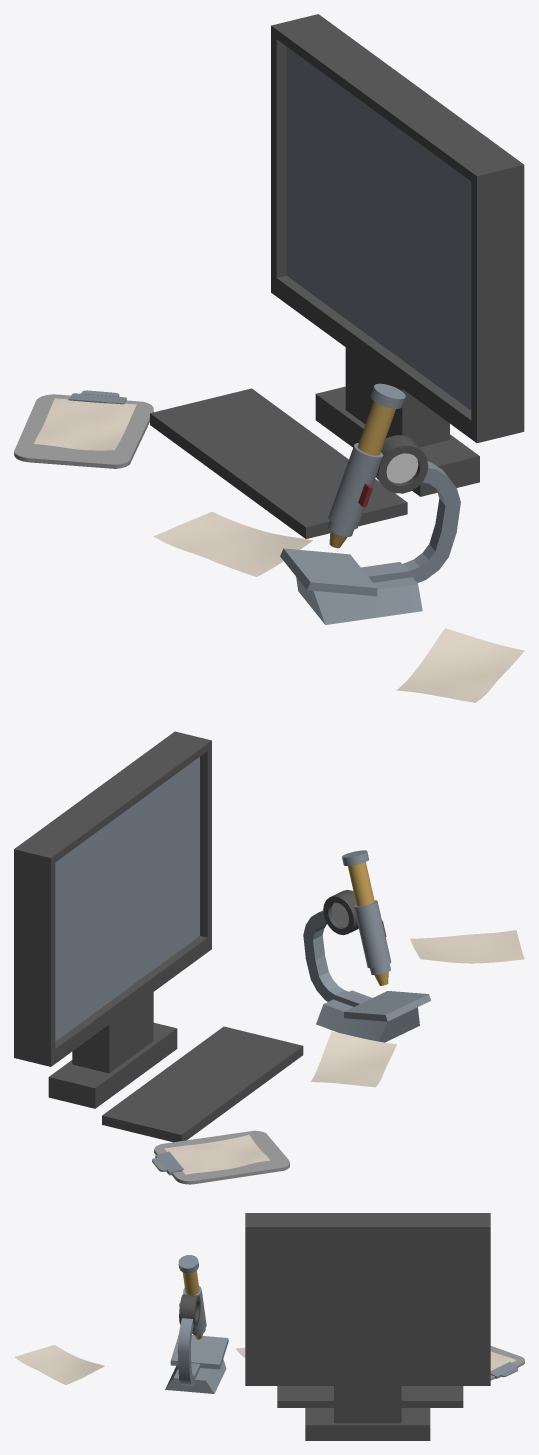
File: ordinateur.fbx
3 views of the same model, one above another, from view 1: azimuth 30°, elevation 25°; view 2: azimuth 150°, elevation 25°; view 3: azimuth 270°, elevation 25° (orthographic). The views are drawn at different scales.
Parts seen in each view (by area): view 1: noteBOOK6; view 2: noteBOOK6; view 3: noteBOOK6.
Part boxes in pixels (bbox=[...]): noteBOOK6: bbox=[14, 14, 524, 702]; noteBOOK6: bbox=[14, 731, 524, 1184]; noteBOOK6: bbox=[14, 1213, 524, 1440].
Bounding box in the file's own units: 175 × 179 × 391.
